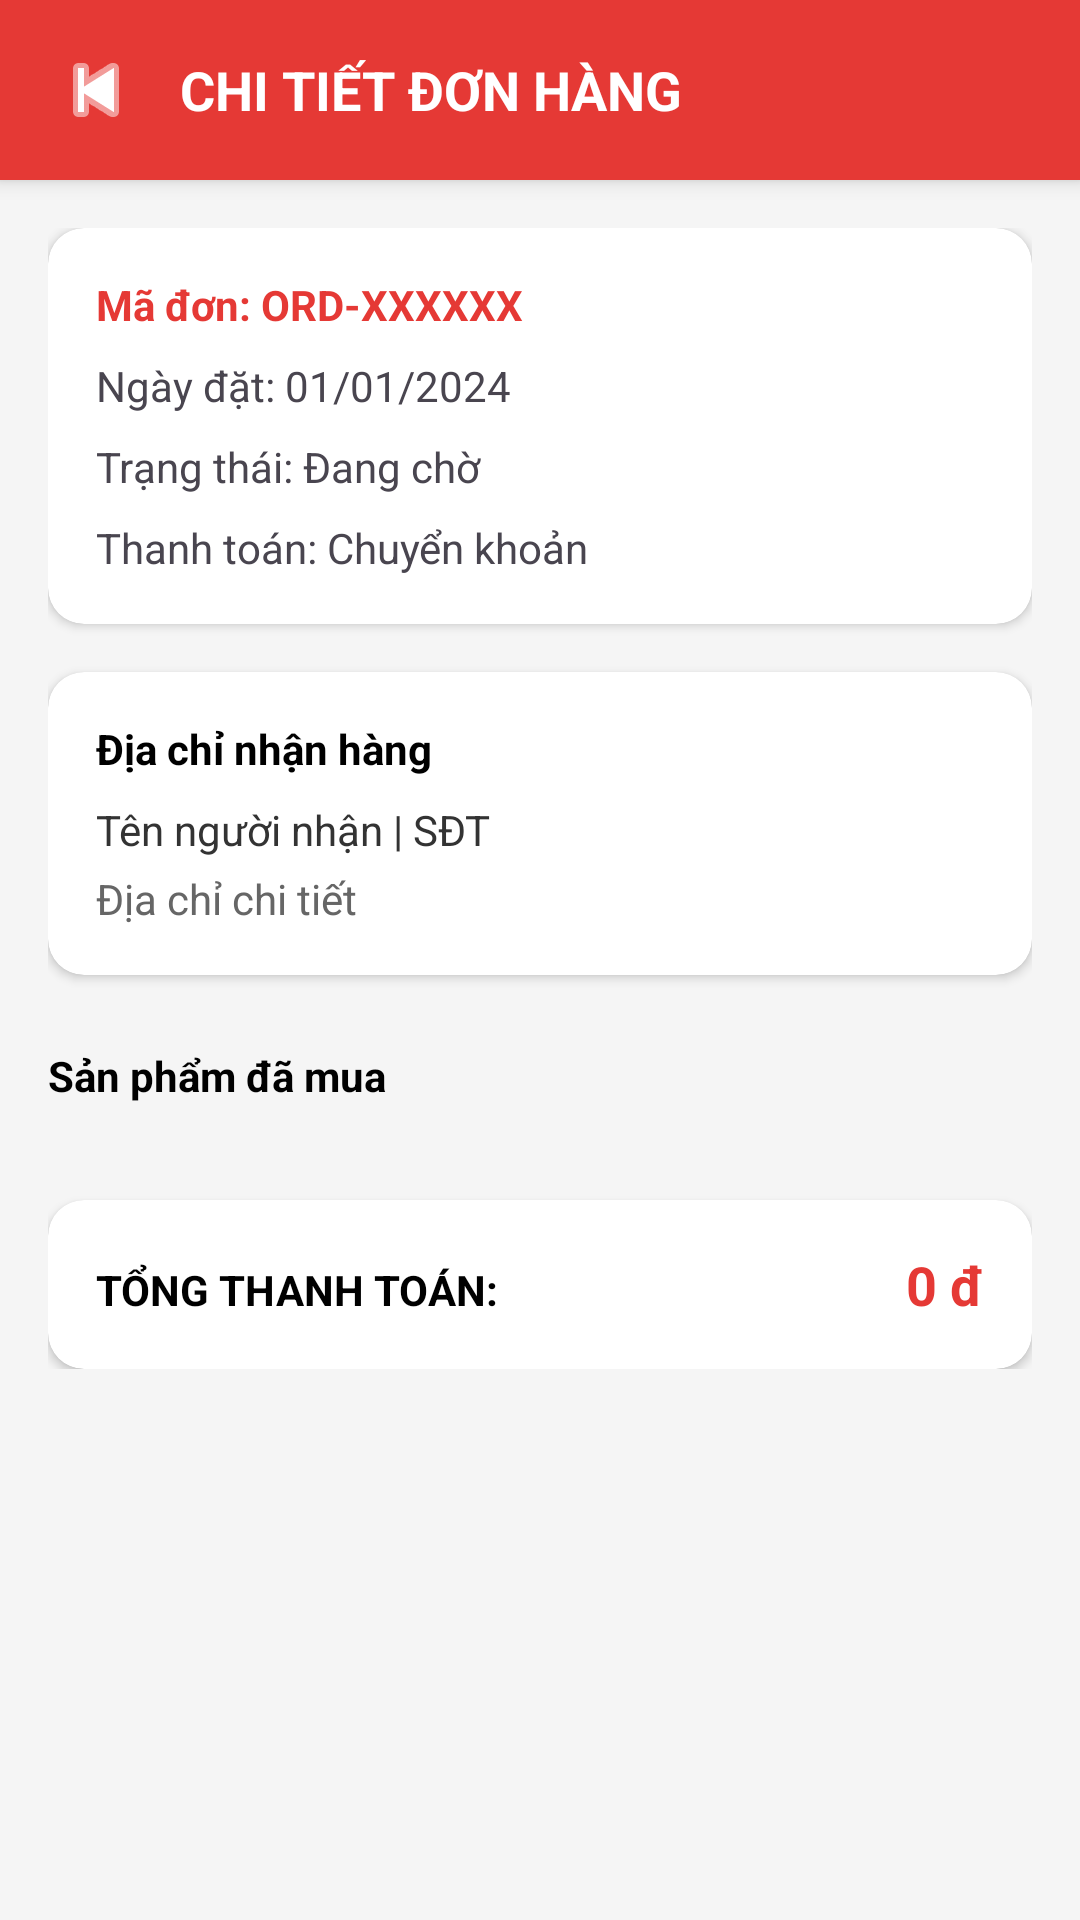

Icons on this 1080 x 1920 Android screen, each with the point to tap as (x,y):
previous: (96,90)
